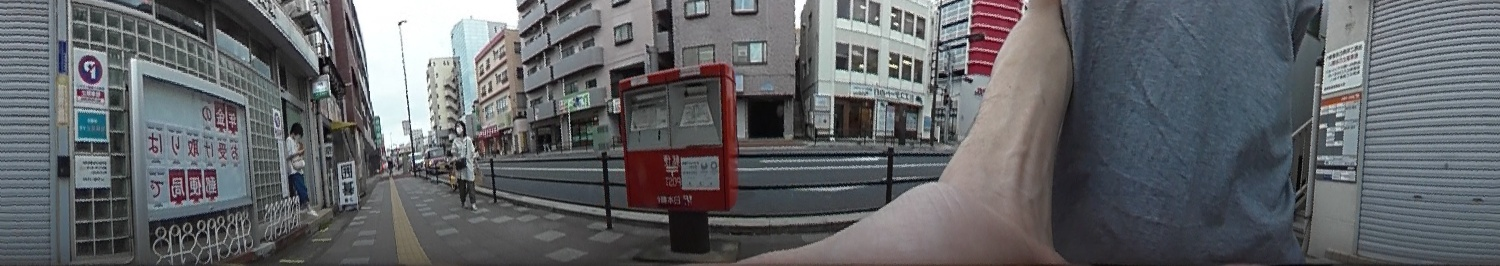person: (448, 118, 480, 211), (282, 118, 311, 211)
